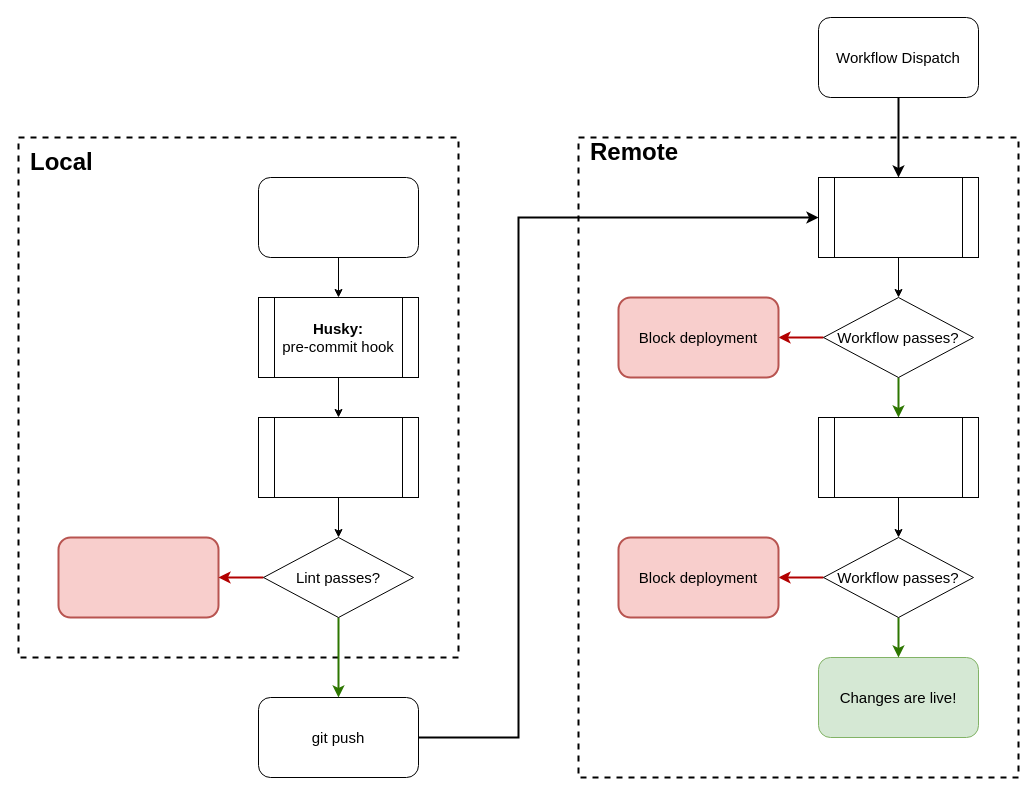
Image size: 1036x796. Some labels were removed from this diagram. Here are the shapes that lost their labels. From the top down, the centre of each, then its label:
At point 338,217: "git commit".
At point 898,217: "GitHub Actions: CI.yaml".
At point 338,457: "Runs lint-staged (ESLint)".
At point 898,457: "GitHub Actions: CD.yaml".
At point 138,577: "Block commit".
